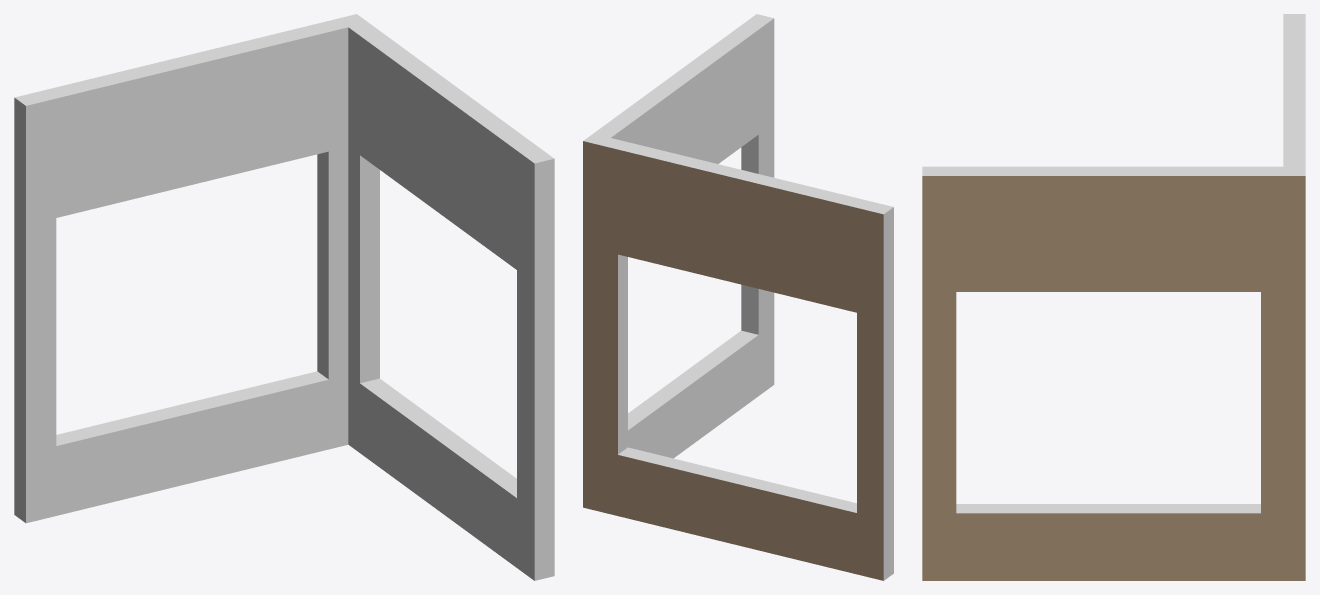
Rendered from Wall2_C2_15.fbx.
3 renders of one model, left to right at view 1: azimuth 30°, elevation 25°; view 2: azimuth 150°, elevation 25°; view 3: azimuth 270°, elevation 25°, orthographic. The views are drawn at different scales.
Parts seen in each view (by area): view 1: Wall2_C2_15; view 2: Wall2_C2_15; view 3: Wall2_C2_15.
Part boxes in pixels (box(x1,y1,x2,y2)): Wall2_C2_15: box(14, 14, 554, 580); Wall2_C2_15: box(583, 14, 893, 580); Wall2_C2_15: box(922, 14, 1305, 580).
Bounding box in the file's own units: 258 × 300 × 258.
